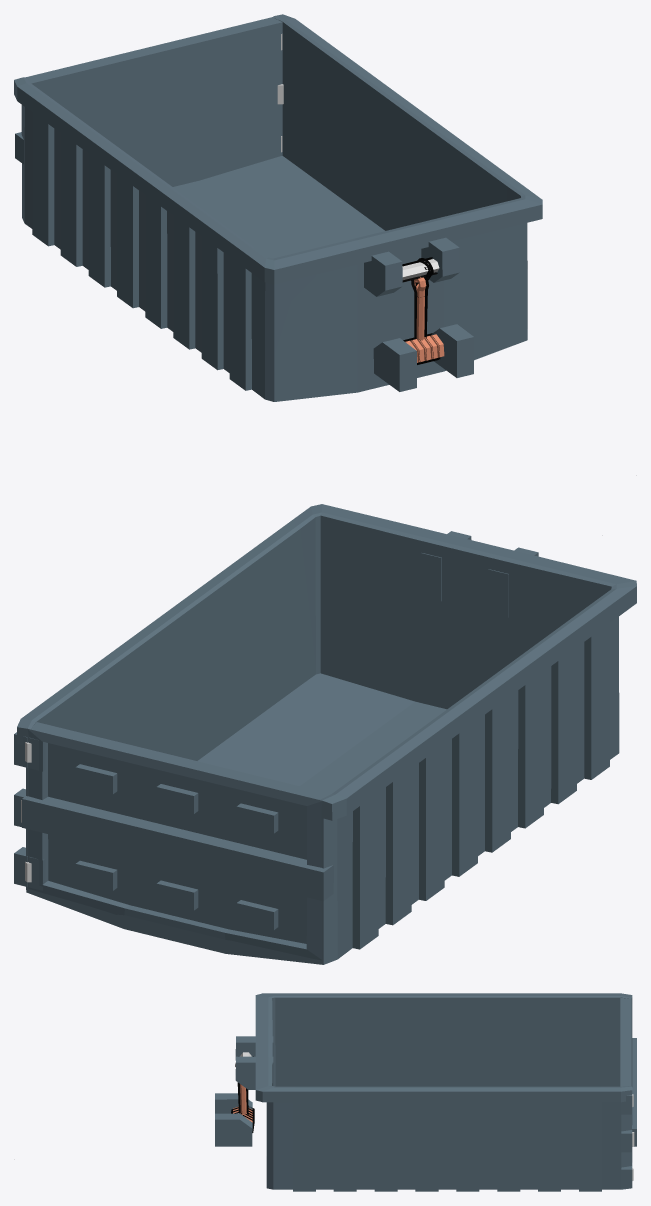
File: open_box.glb
3 views of the same model, one above another, from view 1: azimuth 30°, elevation 25°; view 2: azimuth 150°, elevation 25°; view 3: azimuth 270°, elevation 25° (orthographic). The views are drawn at different scales.
Visible parts, largest first — view 1: Cube.1198_Outline_0, Cube.241_Outline_0, Cube.1201_Outline_0, Cube.1202_Outline_0, Cube.1199_Outline_0, Cube.1200_Outline_0; view 2: Cube.1198_Outline_0, Cube.241_Outline_0, Cube.1189_Outline_0, Cube.1199_Outline_0, Cube.1200_Outline_0, Cube.1191_Outline_0, Cube.1196_Outline_0, Cube.1193_Outline_0, Cube.1192_Outline_0, Cube.1194_Outline_0, Cube.1195_Outline_0; view 3: Cube.1198_Outline_0, Cube.1202_Outline_0, Cube.241_Outline_0, Cube.1200_Outline_0, Cube.1189_Outline_0, Cube.1201_Outline_0, Cube.1199_Outline_0.
Part boxes in pixels (x1=…): Cube.1198_Outline_0: x1=14, y1=14, x2=542, y2=401; Cube.241_Outline_0: x1=26, y1=17, x2=282, y2=186; Cube.1201_Outline_0: x1=373, y1=338, x2=416, y2=391; Cube.1202_Outline_0: x1=431, y1=324, x2=473, y2=377; Cube.1199_Outline_0: x1=364, y1=251, x2=402, y2=296; Cube.1200_Outline_0: x1=421, y1=237, x2=459, y2=282; Cube.1198_Outline_0: x1=17, y1=504, x2=636, y2=964; Cube.241_Outline_0: x1=27, y1=722, x2=330, y2=960; Cube.1189_Outline_0: x1=22, y1=796, x2=333, y2=901; Cube.1199_Outline_0: x1=488, y1=547, x2=538, y2=617; Cube.1200_Outline_0: x1=421, y1=531, x2=471, y2=601; Cube.1191_Outline_0: x1=156, y1=880, x2=198, y2=910; Cube.1196_Outline_0: x1=236, y1=803, x2=278, y2=833; Cube.1193_Outline_0: x1=236, y1=900, x2=278, y2=929; Cube.1192_Outline_0: x1=75, y1=860, x2=117, y2=890; Cube.1194_Outline_0: x1=156, y1=784, x2=198, y2=813; Cube.1195_Outline_0: x1=75, y1=764, x2=117, y2=794; Cube.1198_Outline_0: x1=255, y1=993, x2=632, y2=1191; Cube.1202_Outline_0: x1=215, y1=1113, x2=252, y2=1146; Cube.241_Outline_0: x1=620, y1=998, x2=632, y2=1162; Cube.1200_Outline_0: x1=235, y1=1056, x2=273, y2=1089; Cube.1189_Outline_0: x1=632, y1=1038, x2=636, y2=1146; Cube.1201_Outline_0: x1=215, y1=1093, x2=252, y2=1113; Cube.1199_Outline_0: x1=235, y1=1036, x2=273, y2=1060.
Size of the model in its own units: 2.97 by 1.54 by 7.95.
